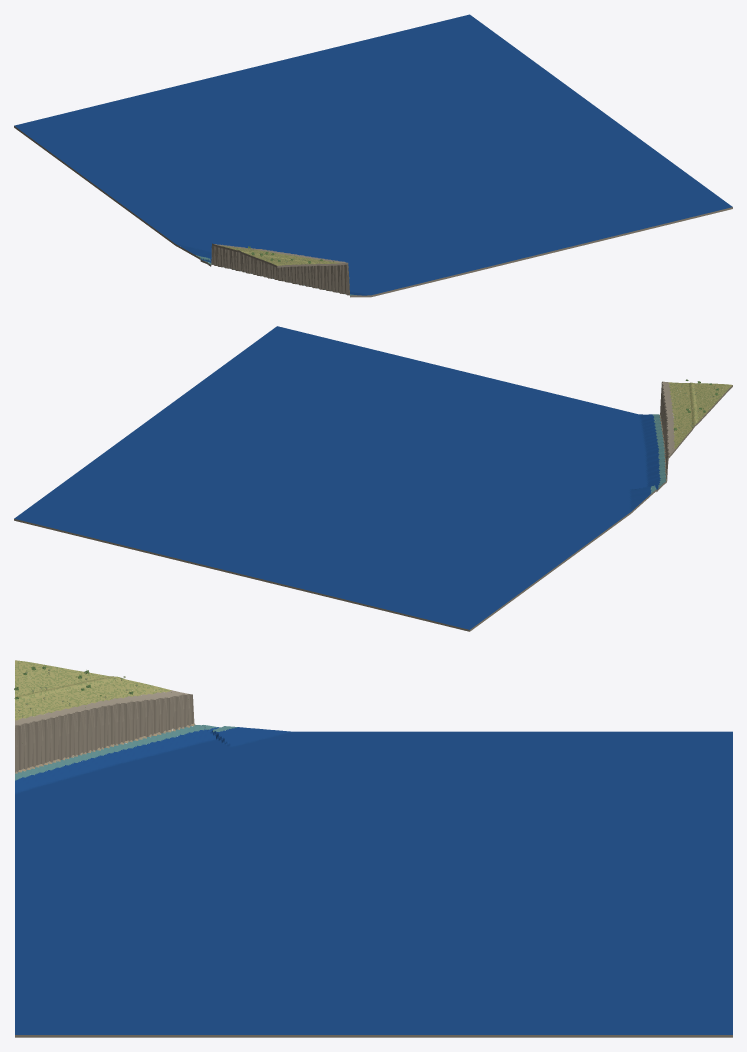
Rendered from parca_+12_+0-yakin.glb.
The picture shows the model from 3 angles, top to bottom: view 1: azimuth 30°, elevation 25°; view 2: azimuth 150°, elevation 25°; view 3: azimuth 270°, elevation 25°; orthographic projection. The views are drawn at different scales.
Parts seen in each view (by area): view 1: parca_+12_+0_arazi; view 2: parca_+12_+0_arazi; view 3: parca_+12_+0_arazi.
Boxes of the visible parts, bbox=[...] form: parca_+12_+0_arazi: bbox=[14, 14, 732, 297]; parca_+12_+0_arazi: bbox=[14, 326, 732, 631]; parca_+12_+0_arazi: bbox=[15, 660, 732, 1037].
Bounding box in the file's own units: 1002 × 114 × 1001.
